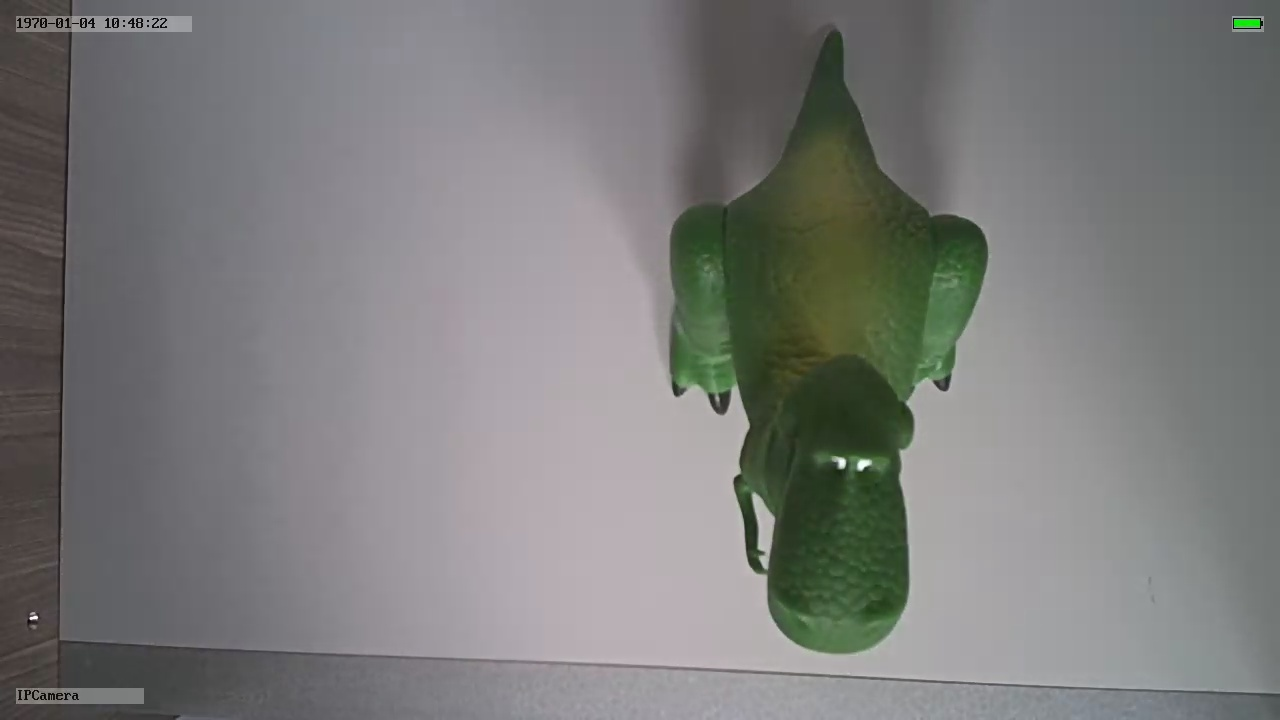rex: (666, 112, 992, 656)
